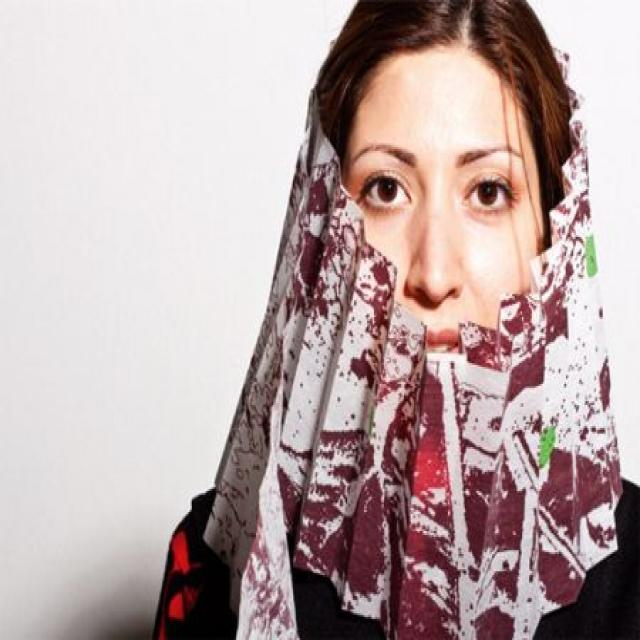nomask: (336, 52, 546, 398)
